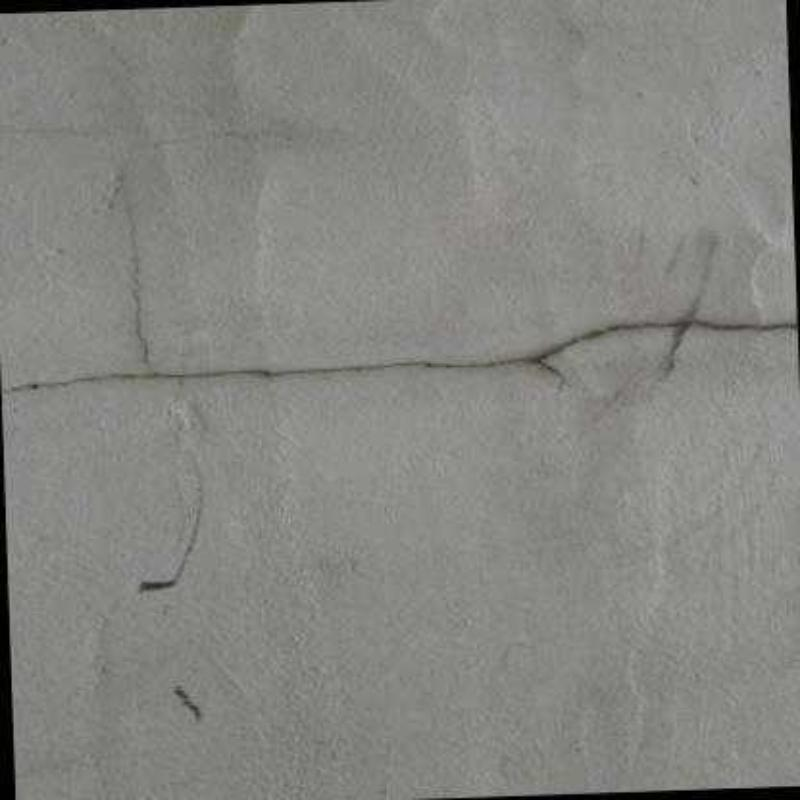pothole: (0, 318, 798, 398), (123, 206, 152, 367)
